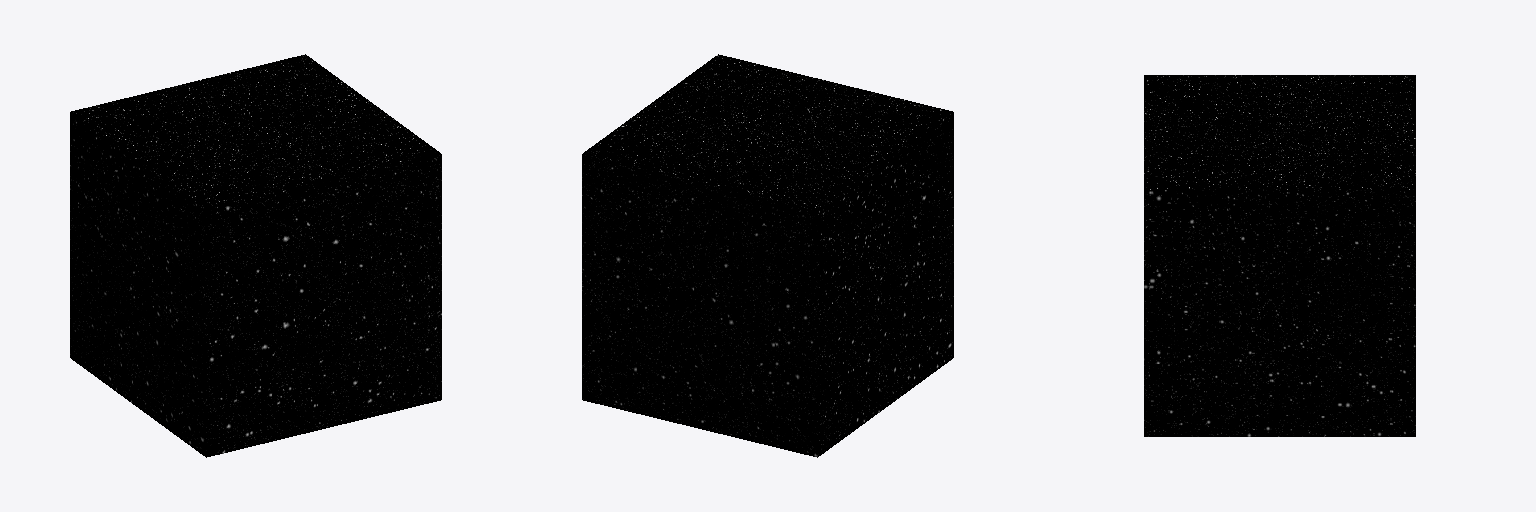
3 renders of one model, left to right at view 1: azimuth 30°, elevation 25°; view 2: azimuth 150°, elevation 25°; view 3: azimuth 270°, elevation 25°, orthographic.
Parts seen in each view (by area): view 1: Cube.005, Cube.004, Cube.001; view 2: Cube.003, Cube.004, Cube.001; view 3: Cube.002, Cube.001.
Boxes of the visible parts, x1=… form: Cube.005: x1=206, y1=154, x2=441, y2=457; Cube.004: x1=70, y1=112, x2=205, y2=456; Cube.001: x1=71, y1=54, x2=440, y2=210; Cube.003: x1=582, y1=154, x2=817, y2=457; Cube.004: x1=818, y1=112, x2=953, y2=456; Cube.001: x1=583, y1=54, x2=952, y2=210; Cube.002: x1=1144, y1=190, x2=1415, y2=436; Cube.001: x1=1144, y1=75, x2=1415, y2=189.
Bounding box in the file's own units: 100 × 100 × 100.
6 materials, 6 textured.